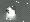person: (7, 7, 17, 21)
